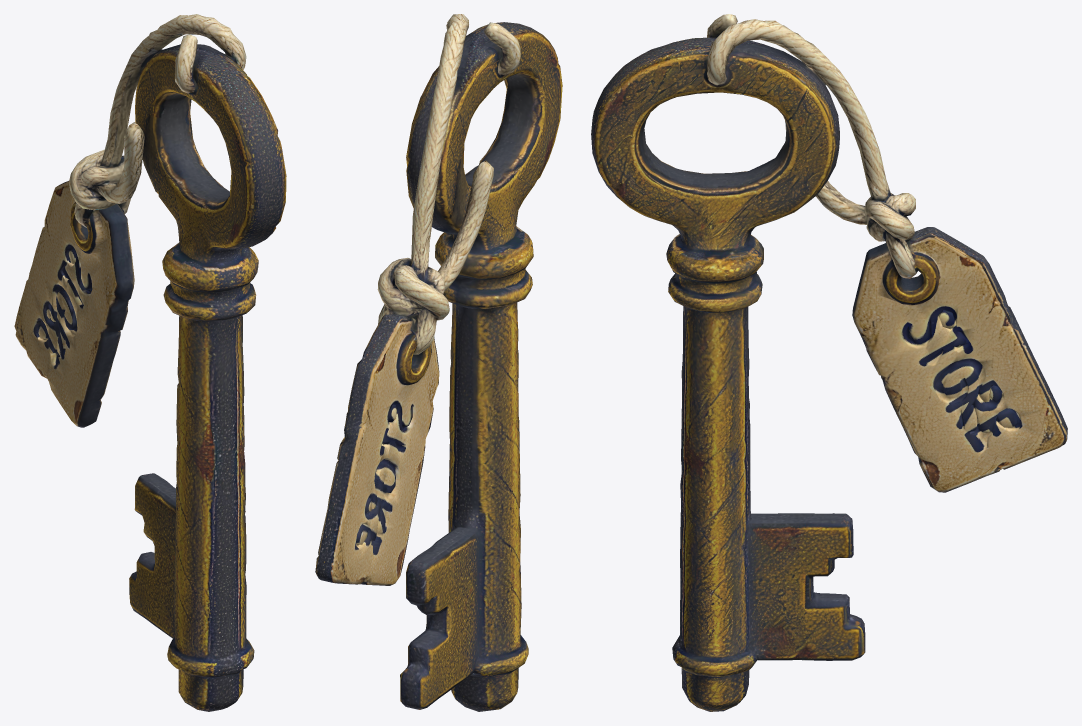
The model's file is StoreKey.fbx.
The picture shows the model from 3 angles, left to right: view 1: azimuth 30°, elevation 25°; view 2: azimuth 150°, elevation 25°; view 3: azimuth 270°, elevation 25°; orthographic projection. The views are drawn at different scales.
Parts seen in each view (by area): view 1: tripo_node_8e4b688f-6329-4ea0-b495-22696c27645a; view 2: tripo_node_8e4b688f-6329-4ea0-b495-22696c27645a; view 3: tripo_node_8e4b688f-6329-4ea0-b495-22696c27645a.
Part boxes in pixels (<box>): tripo_node_8e4b688f-6329-4ea0-b495-22696c27645a: <box>14,14,286,711</box>; tripo_node_8e4b688f-6329-4ea0-b495-22696c27645a: <box>315,14,562,711</box>; tripo_node_8e4b688f-6329-4ea0-b495-22696c27645a: <box>591,14,1067,711</box>.
Size of the model in its own units: 14.42 by 100 by 62.49.
Materials: 1 (1 with a texture image).
